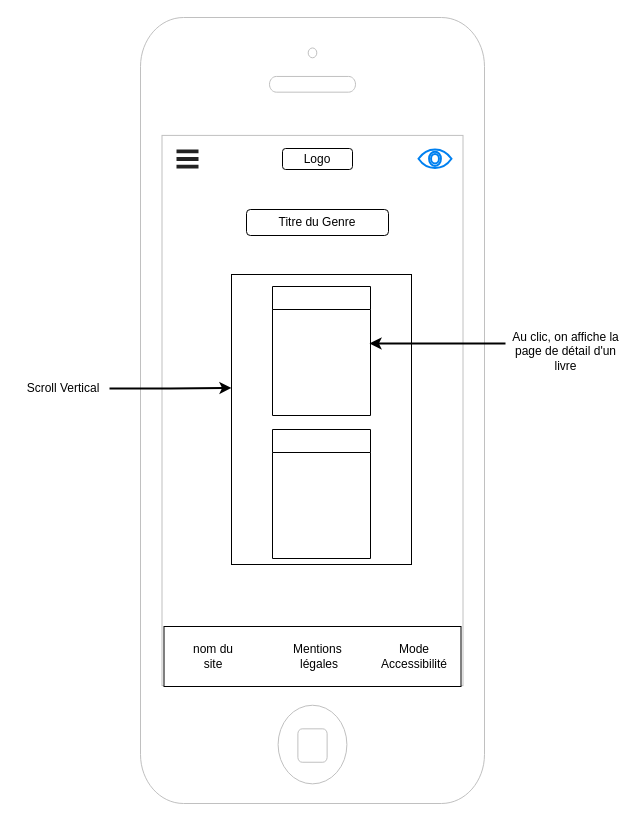
The diagram is 643 pixels wide and 821 high, and some of its shapes have lost their labels. The centre of each missing label's shape, as x and y in pixels:
"Livre 1" belongs at (x=321, y=351).
"Livre 2" belongs at (x=321, y=493).
